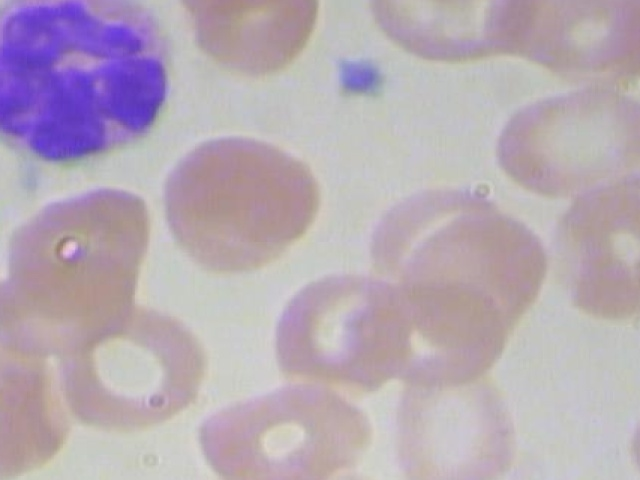Platelets: (330, 46, 389, 103)
RBC: (148, 127, 338, 280), (52, 294, 207, 439), (481, 76, 640, 208), (190, 377, 381, 480), (528, 162, 640, 337), (385, 352, 537, 480), (352, 0, 540, 68), (165, 0, 324, 80), (0, 209, 15, 357), (628, 385, 640, 480)
WBC: (0, 0, 195, 177)
